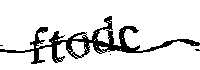c: (119, 22, 140, 54)
d: (91, 14, 116, 56)
f: (30, 24, 48, 64)
o: (67, 30, 90, 59)
t: (49, 30, 65, 66)
